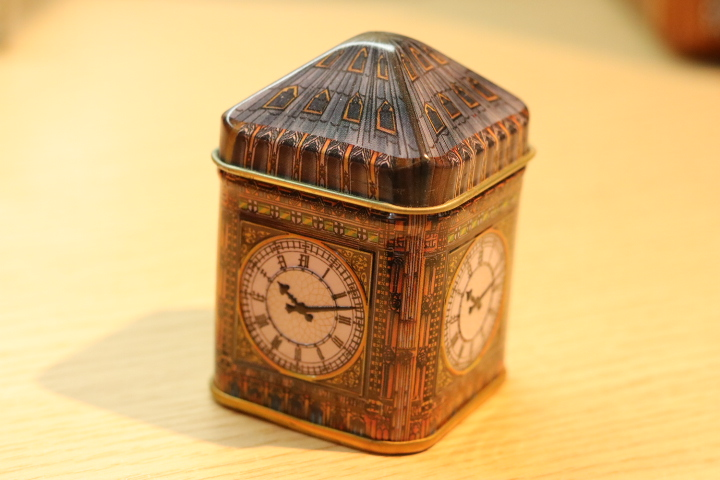Big Ben: (192, 22, 541, 466)
